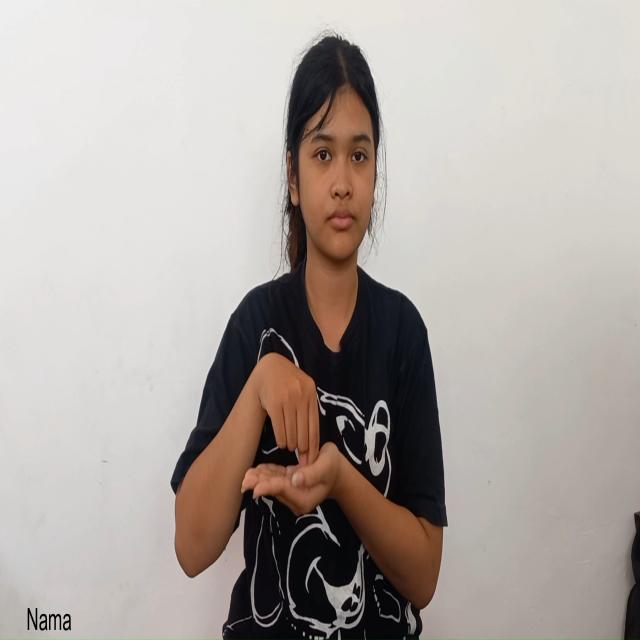Nama -BISINDO-: (225, 347, 338, 526)
